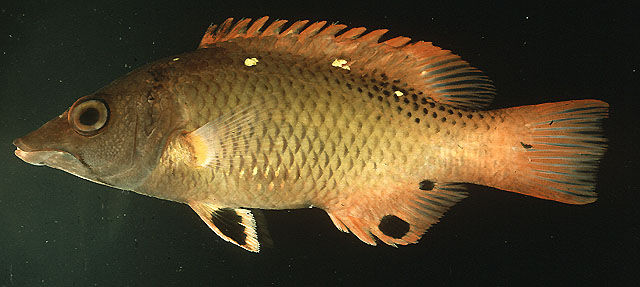fish: (13, 16, 610, 252)
